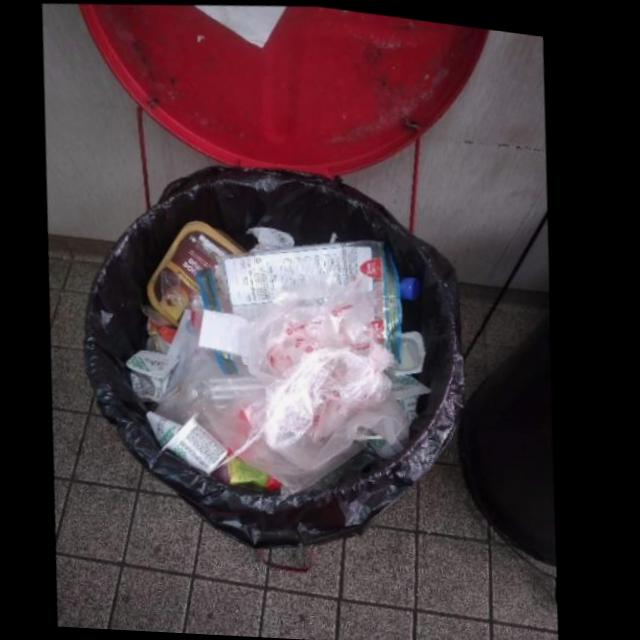hop_nhua: (150, 217, 250, 323), (150, 408, 232, 470), (130, 347, 183, 399)
